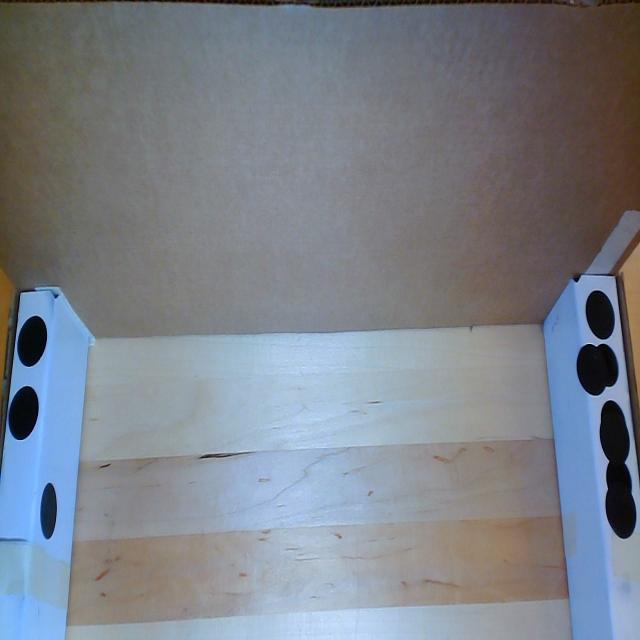Hole: (604, 458, 634, 505), (600, 397, 626, 440), (595, 339, 618, 386)
Sticker: (7, 382, 40, 443), (604, 485, 638, 542), (584, 286, 616, 344), (16, 313, 48, 369), (576, 341, 608, 397), (599, 411, 632, 464), (39, 479, 59, 545)
